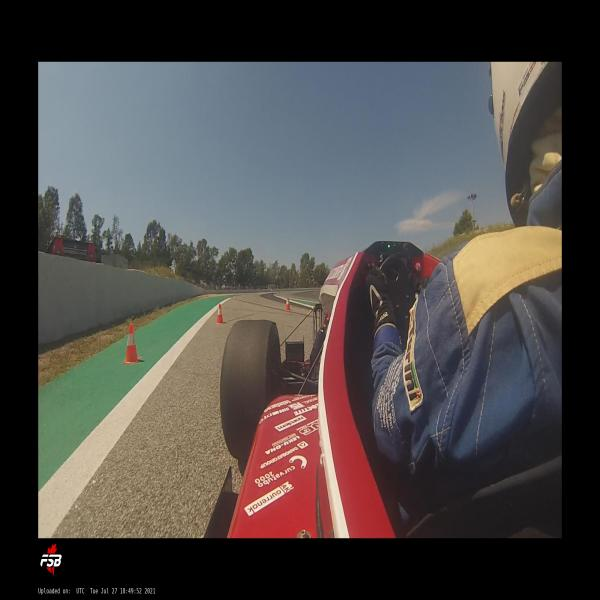orange_cone: (122, 322, 141, 364), (215, 304, 224, 324), (285, 297, 291, 311)
